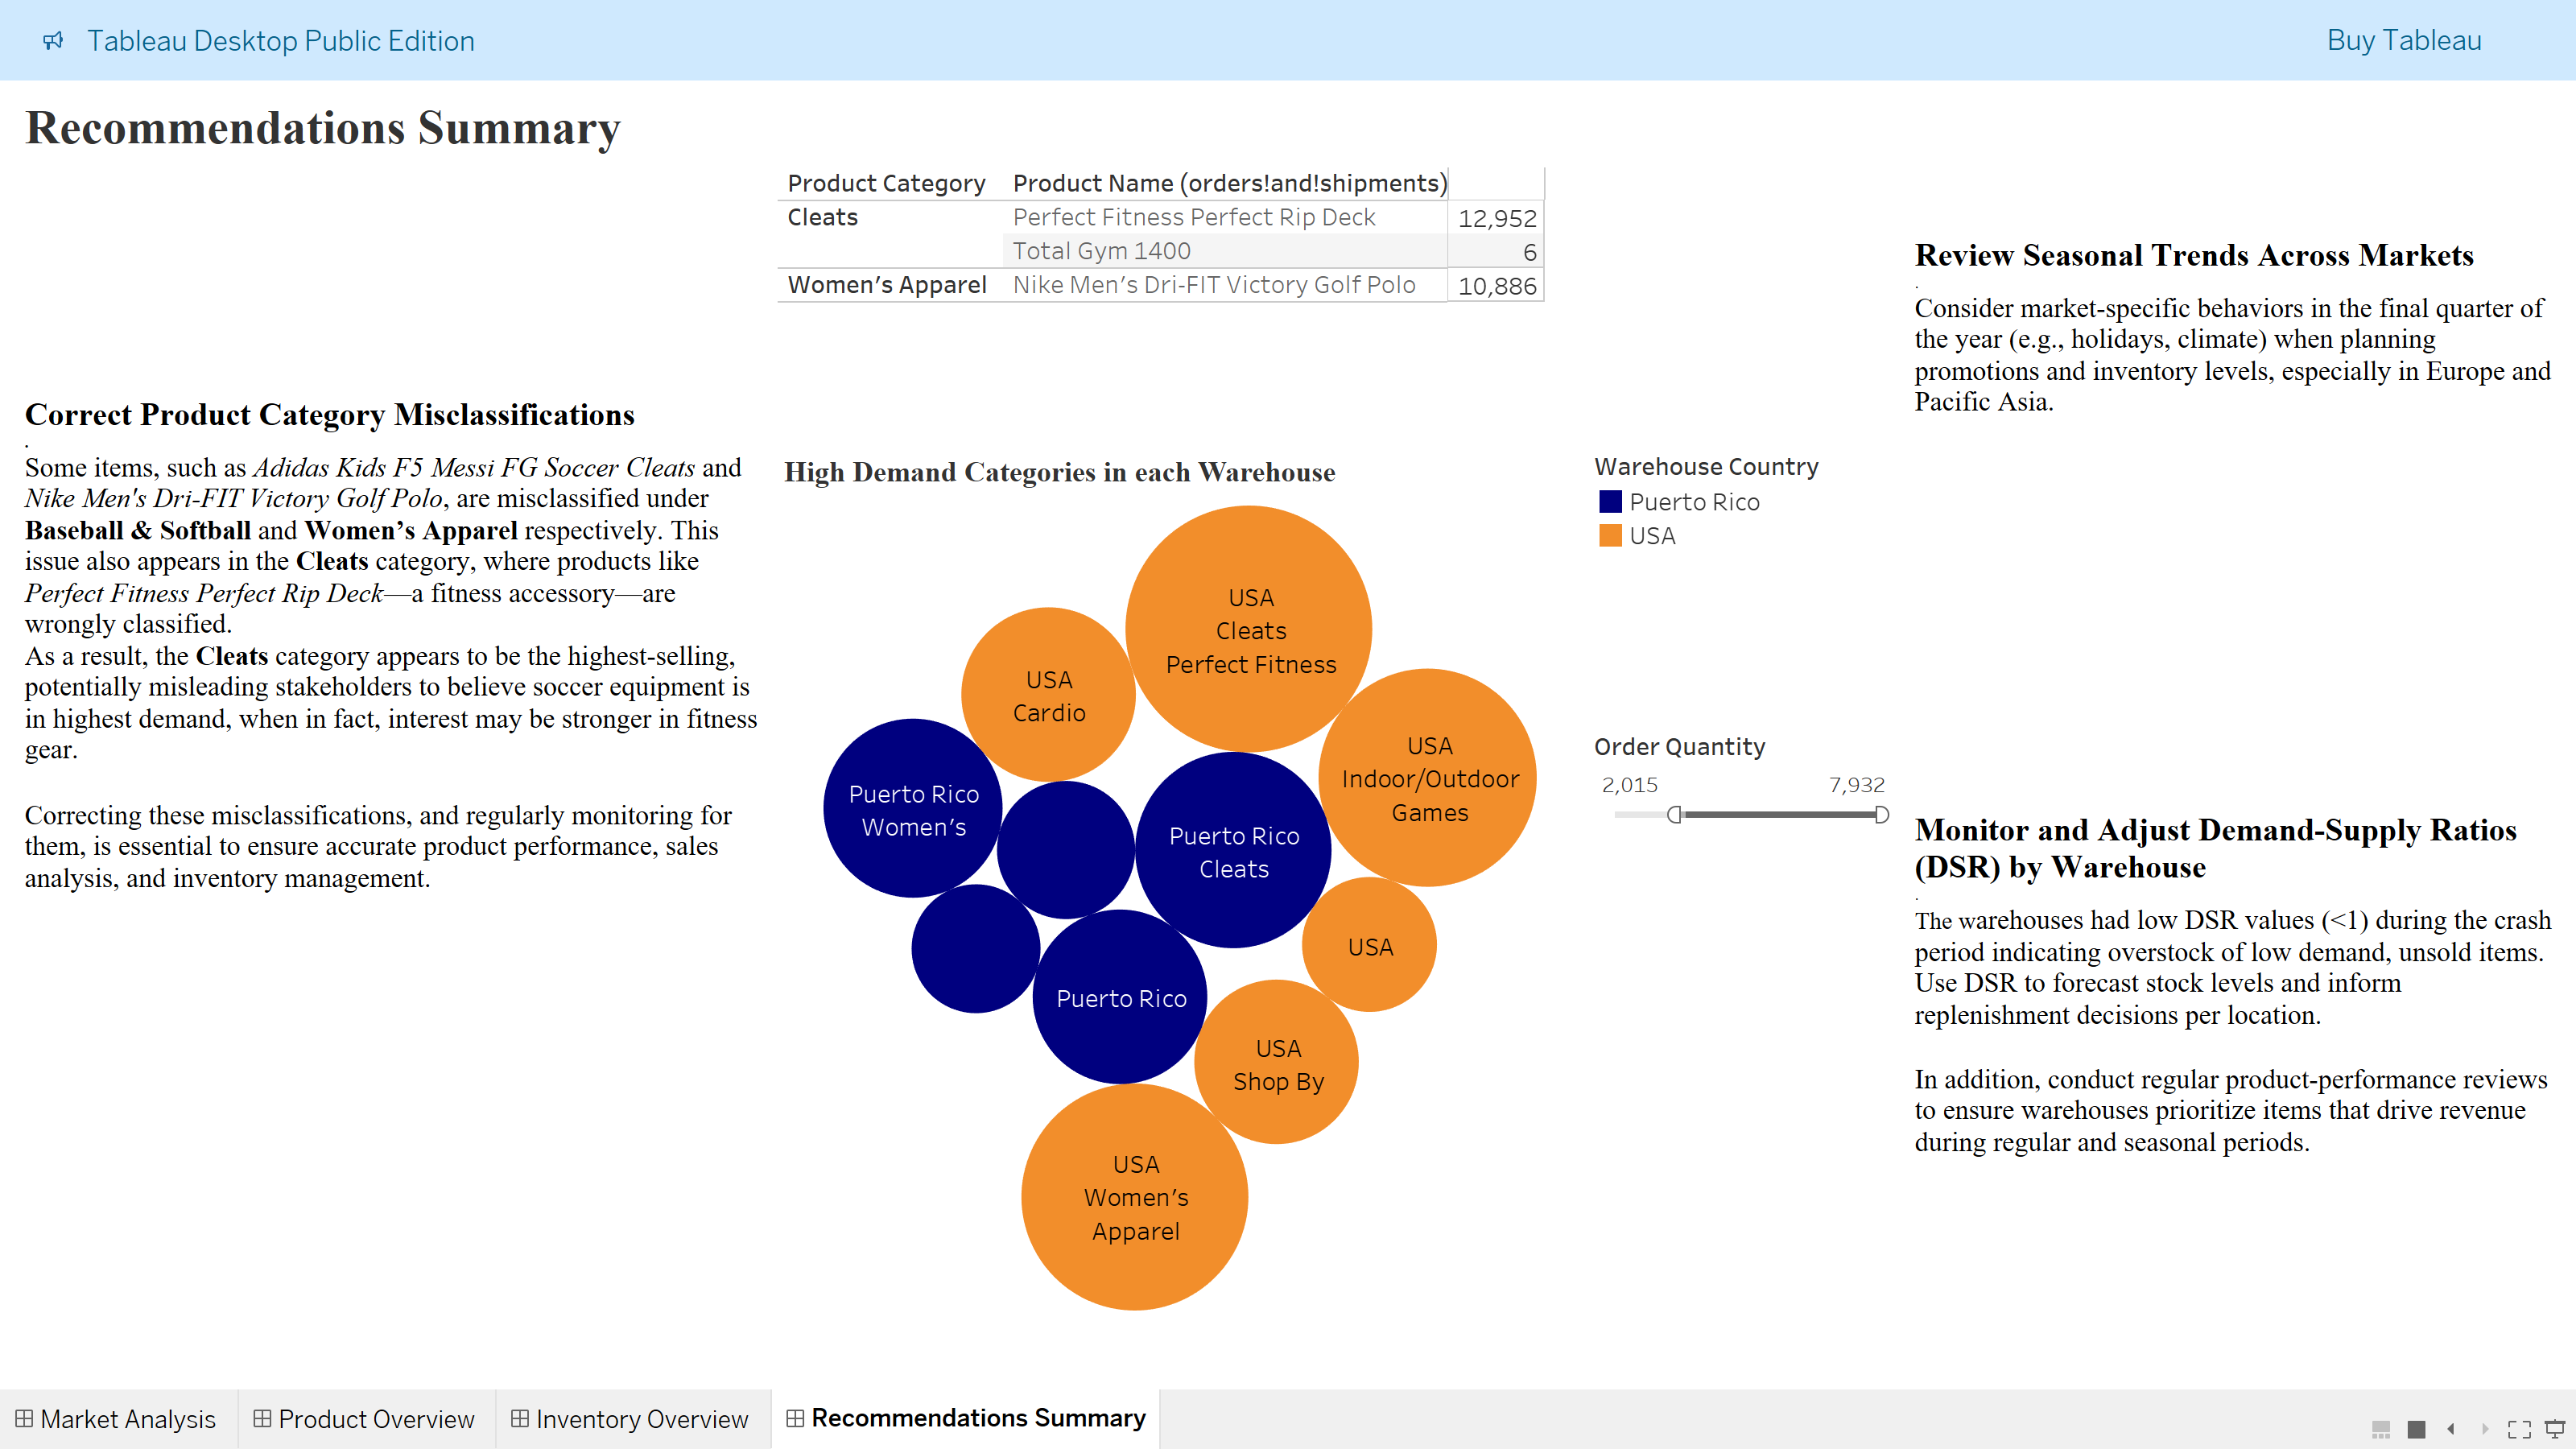

The page's visual inventory and layout, read from the dashboard file:
{"tool":"tableau","page":{"name":"Recommendations Summary","canvas":[1000,1000],"units":"permille","ordinal":3},"visuals":[{"type":"title","box":[6,12.9,732.2,67.5]},{"type":"text","box":[738.1,12.9,255.9,384.1]},{"type":"text","box":[6,80.4,293.5,906.8]},{"type":"worksheet","title":"Sheet 30","mark":"Automatic","rows":["Product Category","Product Name (orders!and!shipments)"],"box":[299.5,80.4,438.6,210.5]},{"type":"worksheet","title":"Sheet 31","mark":"Circle","box":[299.5,290.9,316.6,696.3]},{"type":"legend","title":"Sheet 31","param":"[federated.1p3jwe11lrjc0614ro7zn1ldq7go].[none:Warehouse Country:nk]","box":[616.1,290.9,122,209]},{"type":"text","box":[738.1,397,255.9,590.2]},{"type":"filter","title":"Sheet 31","param":"[federated.1p3jwe11lrjc0614ro7zn1ldq7go].[sum:Order Quantity:qk]","box":[616.1,499.9,122,487.3]}]}

Visuals, with their boxes on the dashboard's canvas, which has no fixed pixel size, in thousandths of its width and height (x1, y1, x2, y2). These are canvas units, not pixel positions in the 2576x1449 screenshot, which may show the page scaled, cropped or inside an application window:
title: crop(6, 13, 738, 80)
text: crop(738, 13, 994, 397)
text: crop(6, 80, 300, 987)
"Sheet 30" worksheet: crop(300, 80, 738, 291)
"Sheet 31" worksheet (Circle marks): crop(300, 291, 616, 987)
"Sheet 31" legend: crop(616, 291, 738, 500)
text: crop(738, 397, 994, 987)
"Sheet 31" filter: crop(616, 500, 738, 987)
